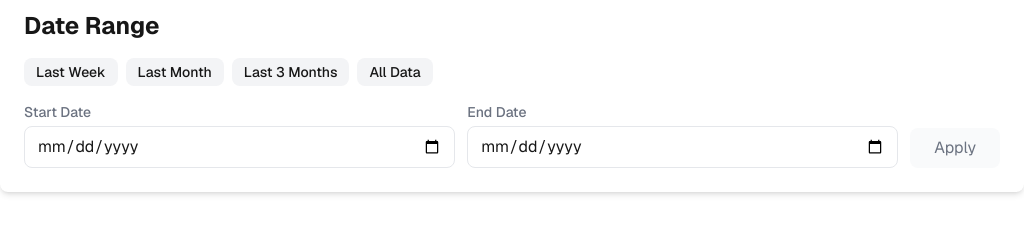
Test: DateRangePicker › enables Apply button when both dates are selected
This screenshot has width=1024, height=249.
Expected: the button "Apply" is disabled, [910, 128, 1000, 168]
Type "2024-01-01" into the date field labelled "Start Date" at coordinates (240, 147), box [24, 126, 455, 168]
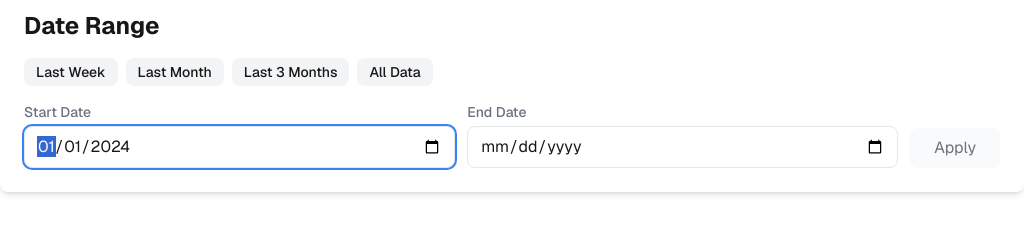
Type "2024-01-31" into the date field labelled "End Date" at coordinates (683, 147), box [467, 126, 898, 168]
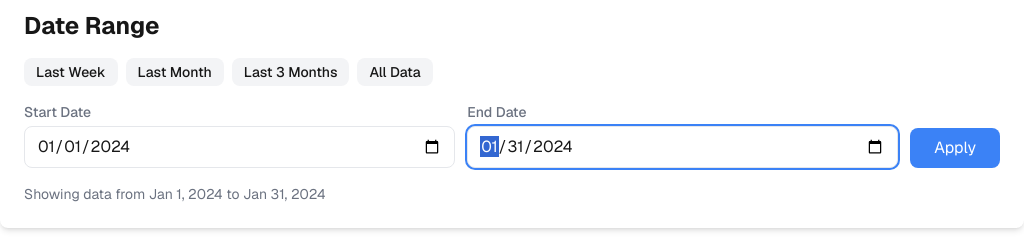
Expected: the button "Apply" is enabled, [910, 128, 1000, 168]
